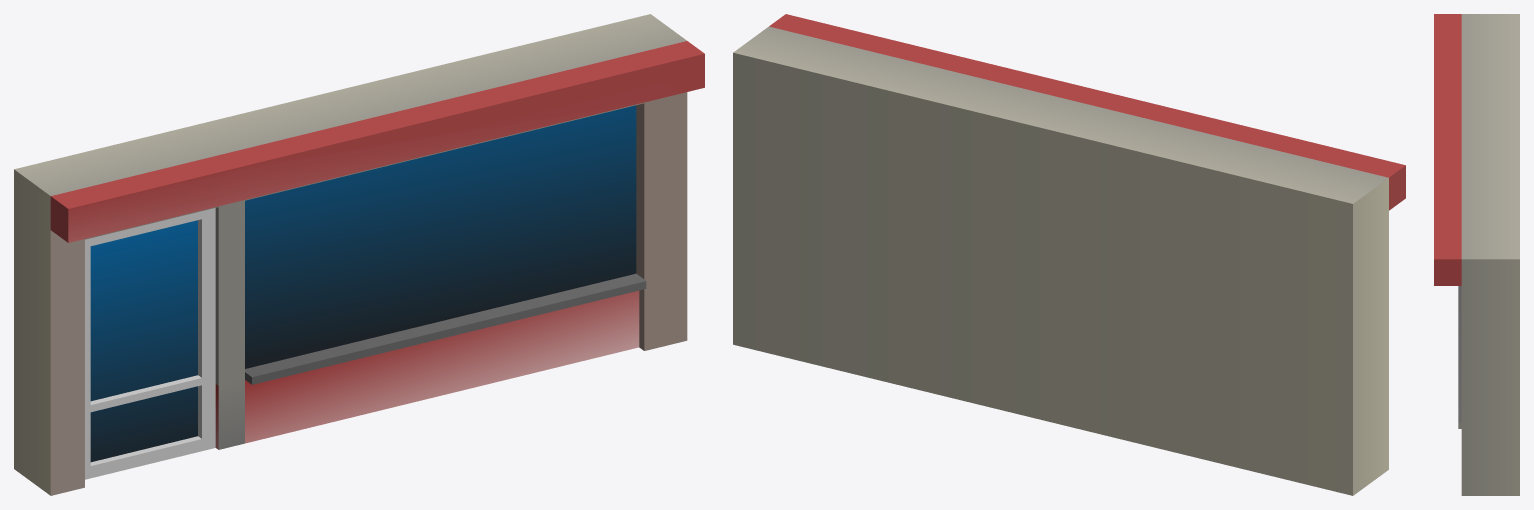
File: B02_devanture_1.fbx
The picture shows the model from 3 angles, left to right: view 1: azimuth 30°, elevation 25°; view 2: azimuth 150°, elevation 25°; view 3: azimuth 270°, elevation 25°; orthographic projection. The views are drawn at different scales.
Parts seen in each view (by area): view 1: B02_devanture_1; view 2: B02_devanture_1; view 3: B02_devanture_1.
Boxes of the visible parts, x1,y1,x2,y2 form: B02_devanture_1: [14, 14, 704, 495]; B02_devanture_1: [733, 14, 1405, 495]; B02_devanture_1: [1434, 14, 1519, 495].
Size of the model in its own units: 1000 by 450 by 148.
